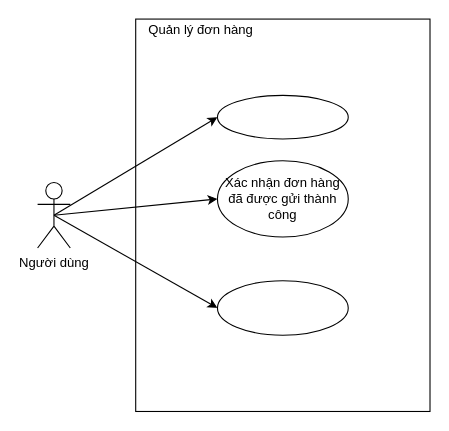
This 449x431 diagram has some shape labels left out. The box of each missing label's shape, as (x1, y1, x2, y2) in pixels:
Hủy đơn hàng: (216, 94, 348, 139)
Xem danh sách đơn hàng: (216, 280, 348, 335)
